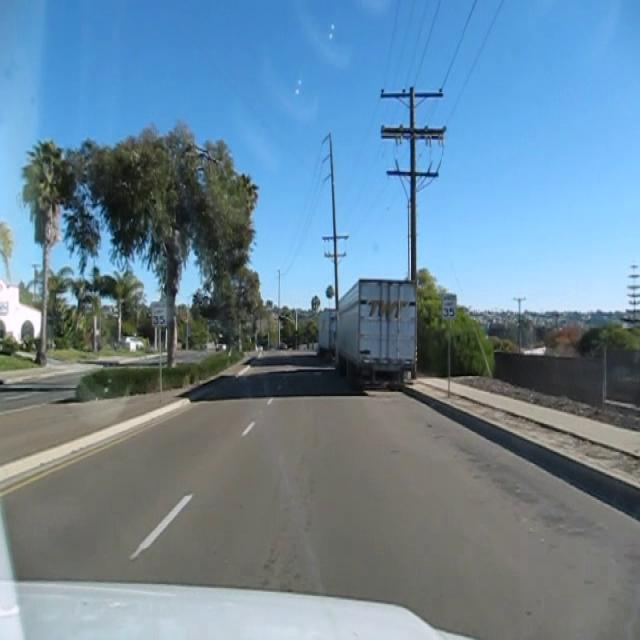speedLimit35: (149, 302, 166, 330), (441, 292, 456, 320)
